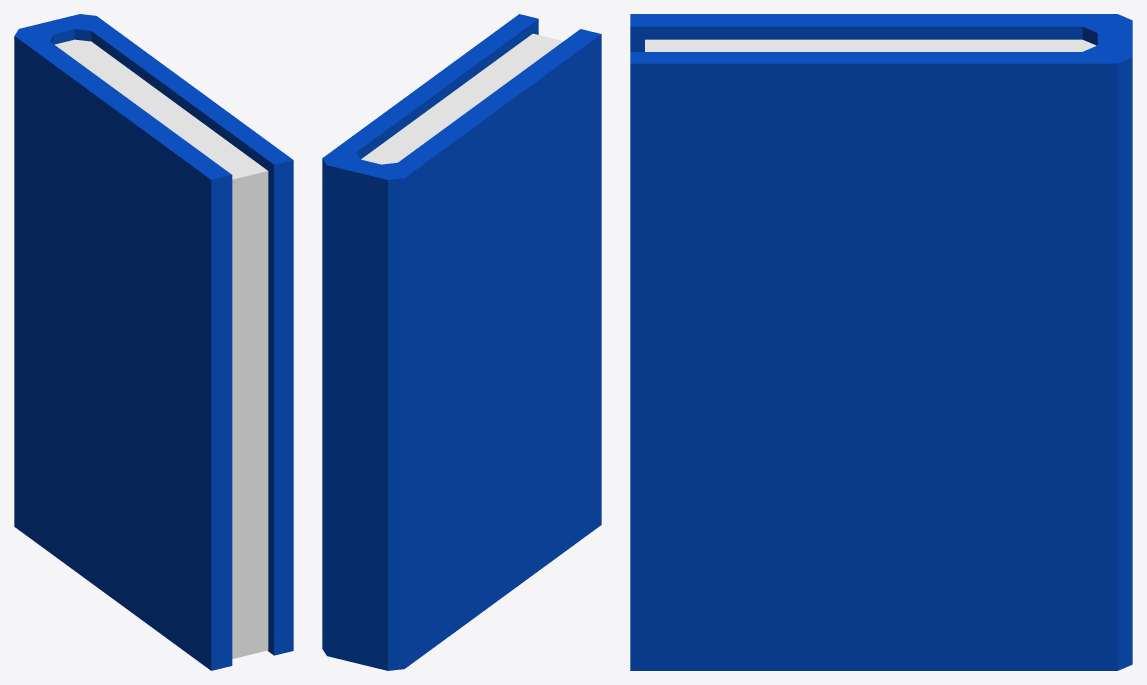
File: Libro08.fbx
3 views of the same model, side by side, from view 1: azimuth 30°, elevation 25°; view 2: azimuth 150°, elevation 25°; view 3: azimuth 270°, elevation 25° (orthographic). The views are drawn at different scales.
Parts seen in each view (by area): view 1: Libro08; view 2: Libro08; view 3: Libro08.
Part boxes in pixels (x1,y1,x2,y2): Libro08: (14,14,293,670); Libro08: (322,14,601,670); Libro08: (630,14,1132,670).
Bounding box in the file's own units: 5.58 × 31.89 × 23.89.
